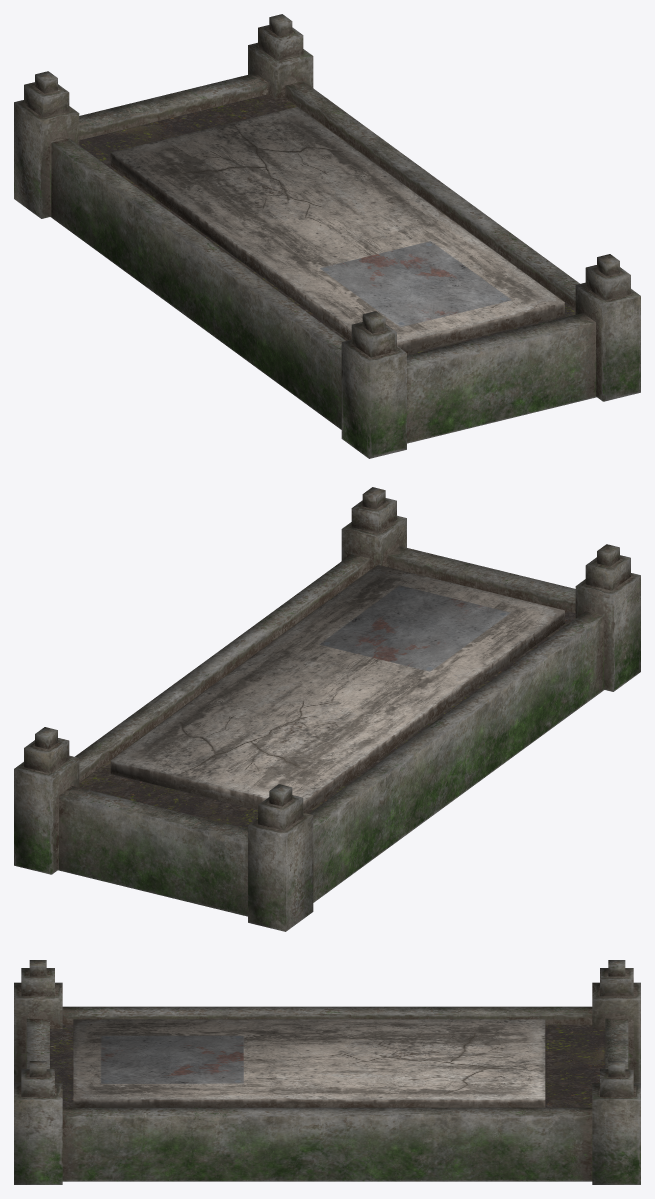
File: tumba.obj
The picture shows the model from 3 angles, top to bottom: view 1: azimuth 30°, elevation 25°; view 2: azimuth 150°, elevation 25°; view 3: azimuth 270°, elevation 25°; orthographic projection. The views are drawn at different scales.
Parts seen in each view (by area): view 1: sarcophagus_tip_A_sarcophagus_tip_A_001; view 2: sarcophagus_tip_A_sarcophagus_tip_A_001; view 3: sarcophagus_tip_A_sarcophagus_tip_A_001.
Part boxes in pixels (x1,y1,x2,y2): sarcophagus_tip_A_sarcophagus_tip_A_001: (14,14,640,458); sarcophagus_tip_A_sarcophagus_tip_A_001: (14,487,640,931); sarcophagus_tip_A_sarcophagus_tip_A_001: (14,960,640,1184).
Bounding box in the file's own units: 21.48 × 9.75 × 48.61.
1 material, 1 textured.
